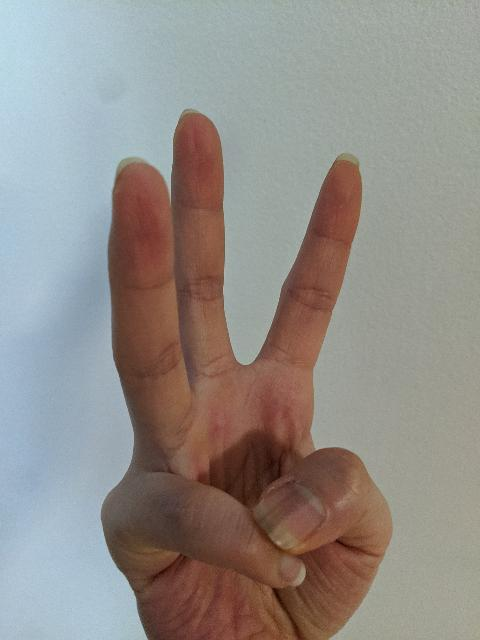W: (96, 105, 398, 640)
